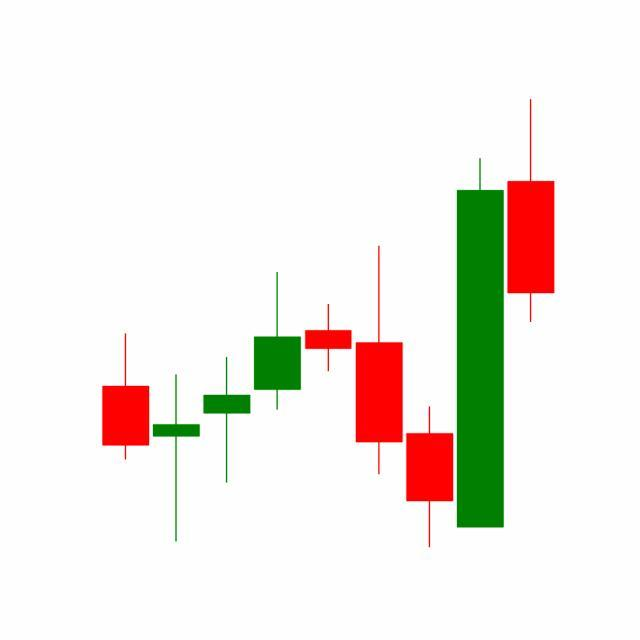Three Line Strike: (303, 154, 507, 549)
